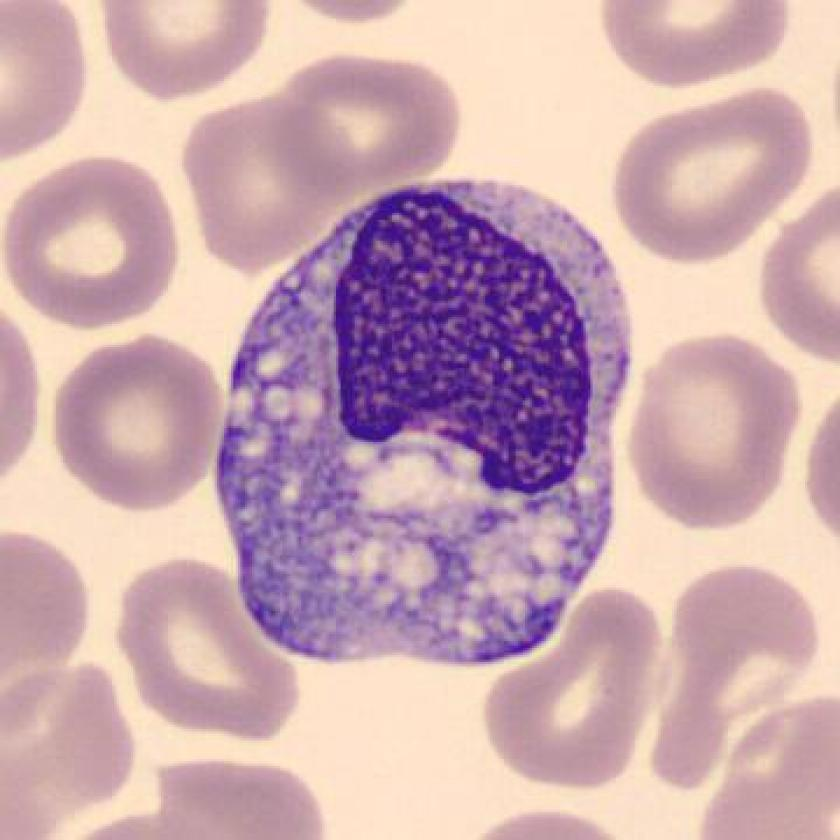monocyte: (202, 163, 659, 693)
